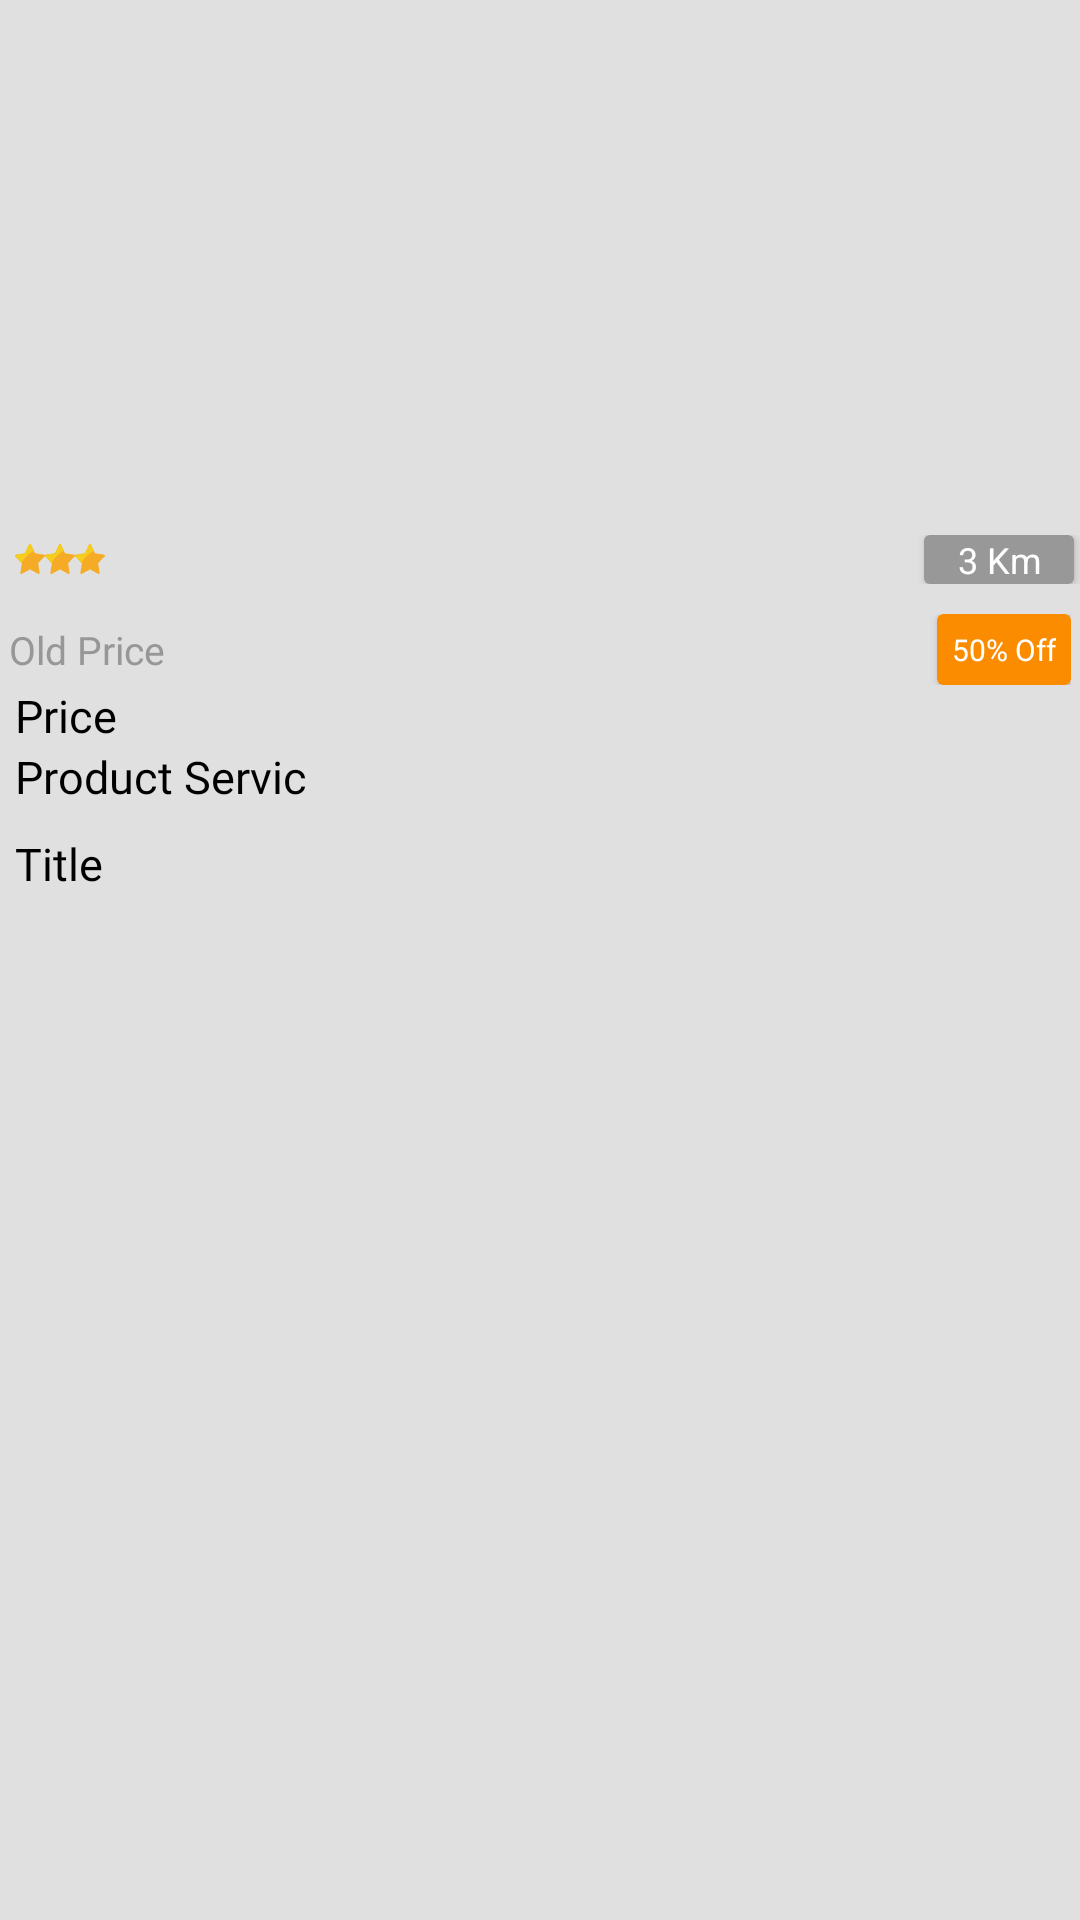

Icon click points for this 1080px x 1920px phone screenshot, format [x,y]:
star: [30,559], [60,559], [90,559]
